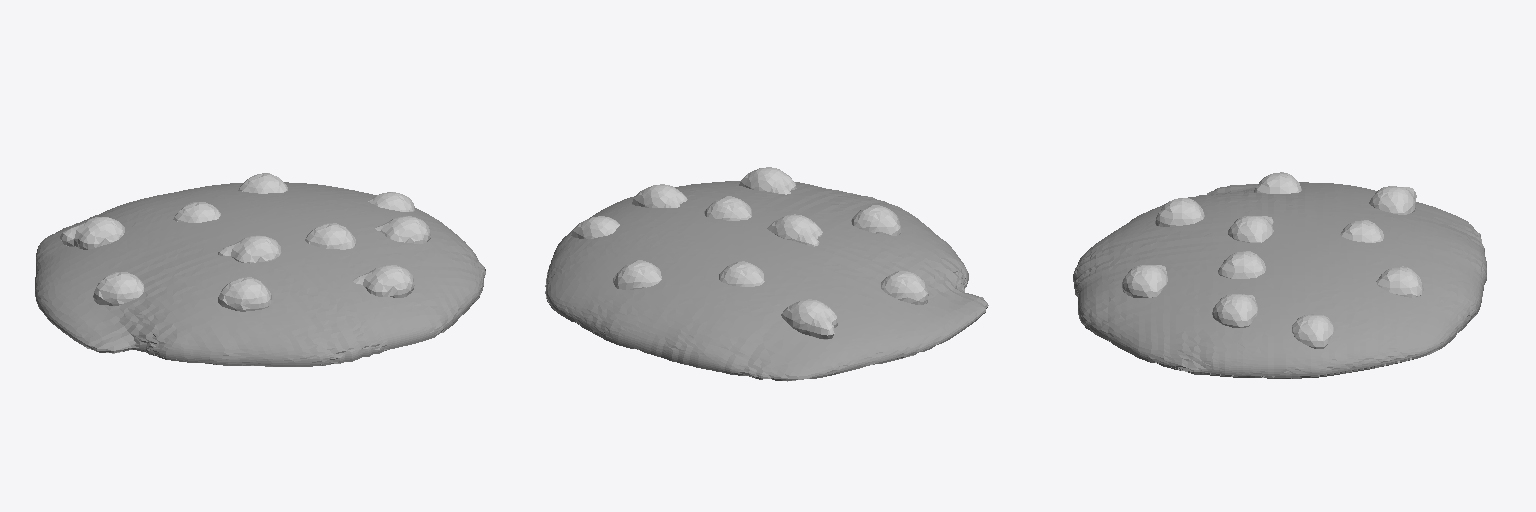
File: cookieBlender.obj
3 views of the same model, side by side, from view 1: azimuth 30°, elevation 25°; view 2: azimuth 150°, elevation 25°; view 3: azimuth 270°, elevation 25° (orthographic).
Parts seen in each view (by area): view 1: mesh05, mesh12; view 2: mesh05, mesh12; view 3: mesh05, mesh12.
Boxes of the visible parts, box(x1,y1,x2,y2) form: mesh05: box(35, 182, 485, 366); mesh12: box(60, 173, 430, 311); mesh05: box(545, 181, 988, 381); mesh12: box(571, 167, 928, 339); mesh05: box(1073, 182, 1486, 378); mesh12: box(1122, 172, 1423, 348).
Size of the model in its own units: 9.62 by 1.48 by 8.85.